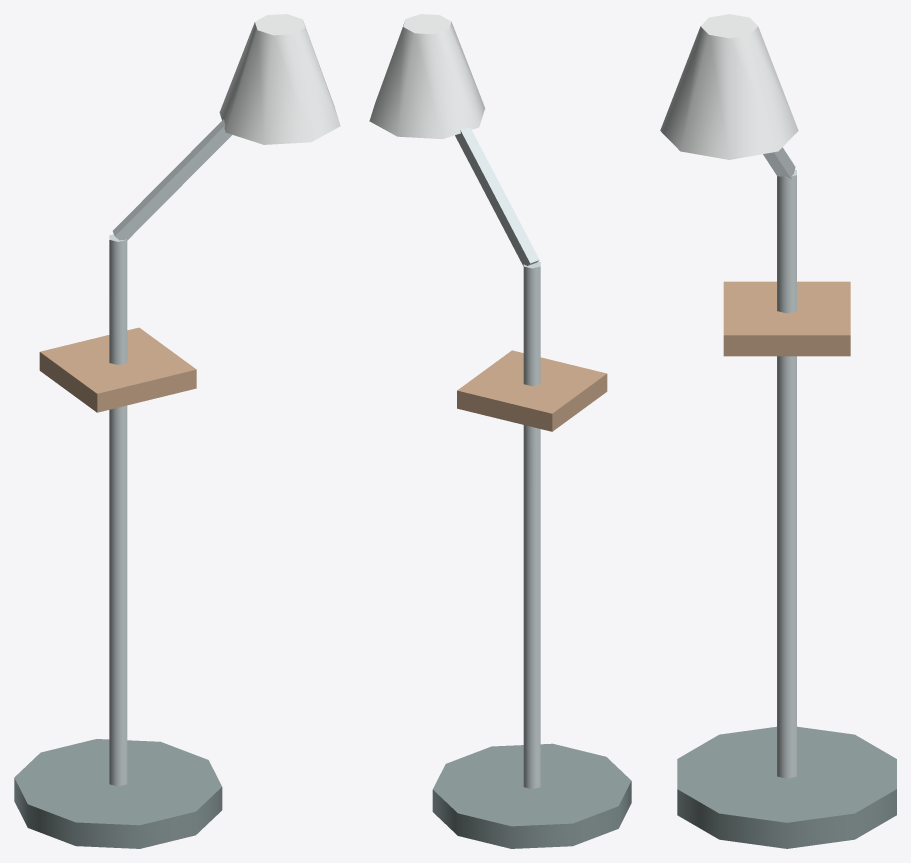
File: floorLampReading.glb
The picture shows the model from 3 angles, left to right: view 1: azimuth 30°, elevation 25°; view 2: azimuth 150°, elevation 25°; view 3: azimuth 270°, elevation 25°; orthographic projection. The views are drawn at different scales.
Visible parts, largest first — view 1: floorLampReading; view 2: floorLampReading; view 3: floorLampReading.
Boxes of the visible parts, bbox=[...] form: floorLampReading: bbox=[14, 14, 340, 848]; floorLampReading: bbox=[369, 14, 631, 848]; floorLampReading: bbox=[660, 14, 896, 848].
Size of the model in its own units: 0.31 by 0.81 by 0.2051.
